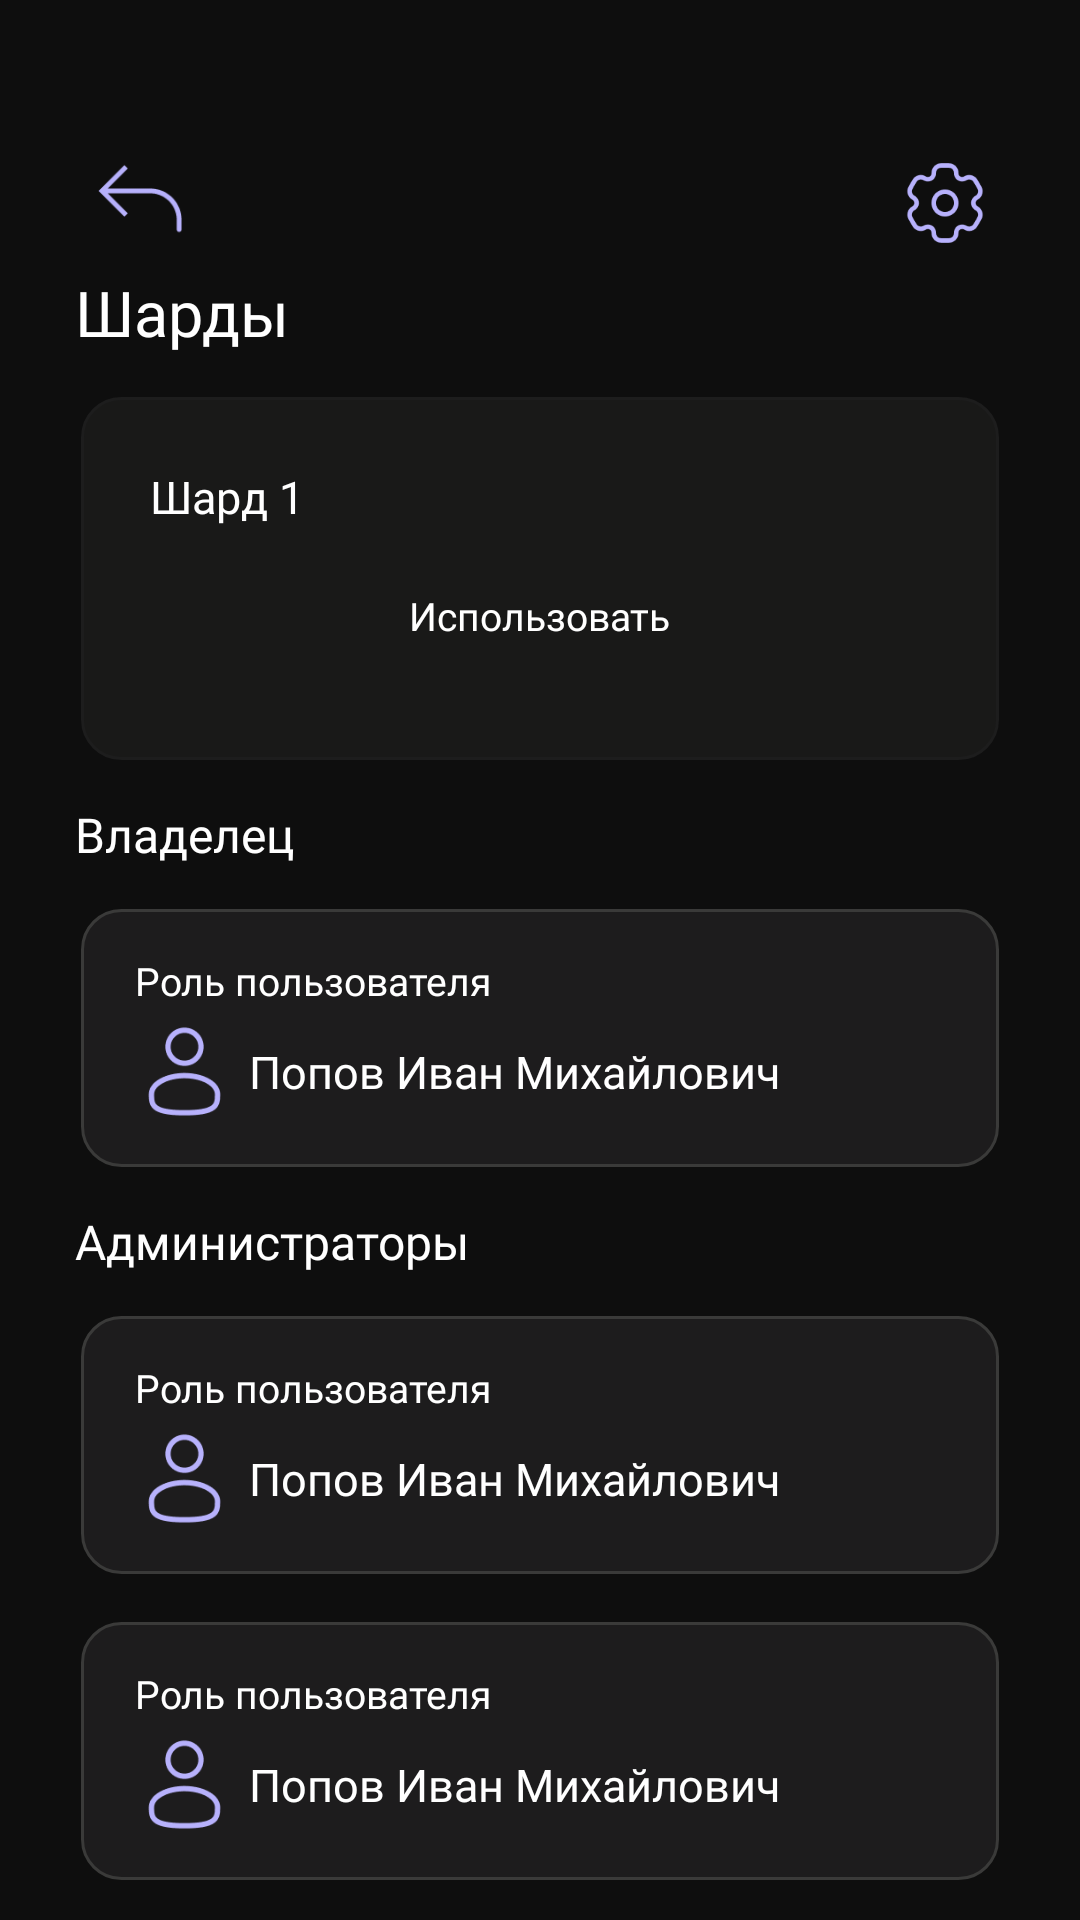

Point at icon controls on the screen. Image size 1080x1920, points as [x,y].
back: [140,199]
settings: [945,203]
user: [184,1071], [184,1478], [184,1784]
